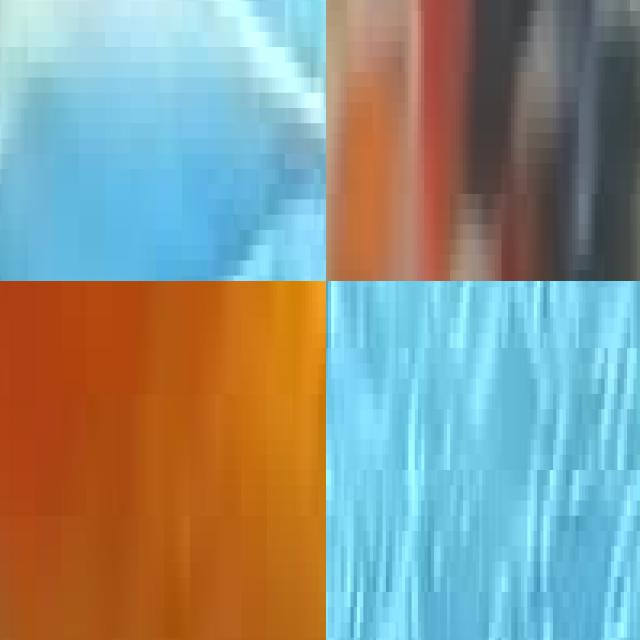fish: (0, 281, 326, 640), (0, 0, 326, 281)
